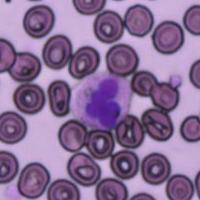N: (70, 71, 132, 132)
